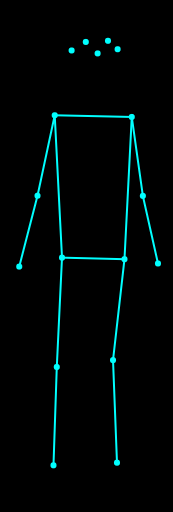mountain: (14, 27, 164, 477)
